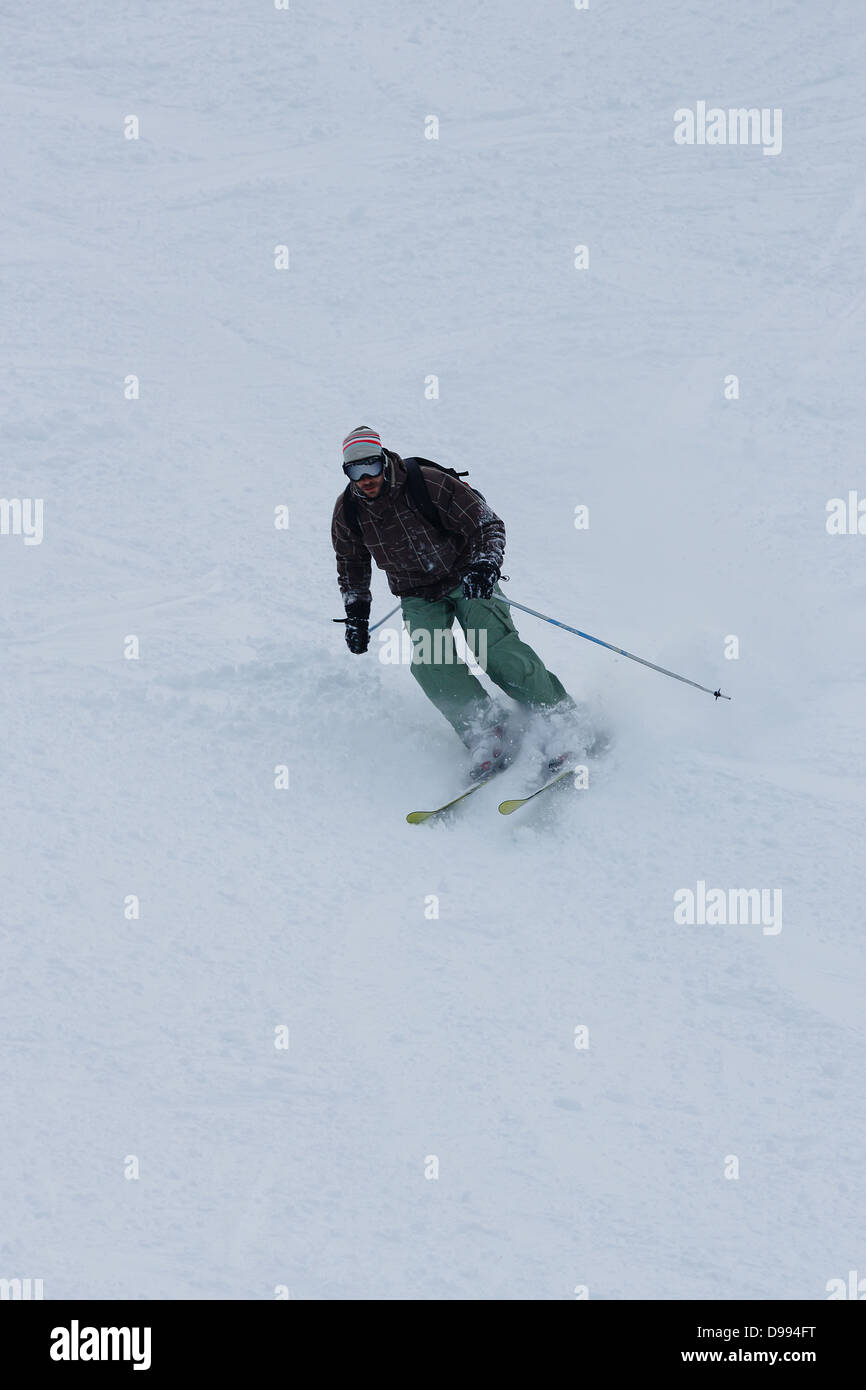skier: (298, 411, 747, 840)
